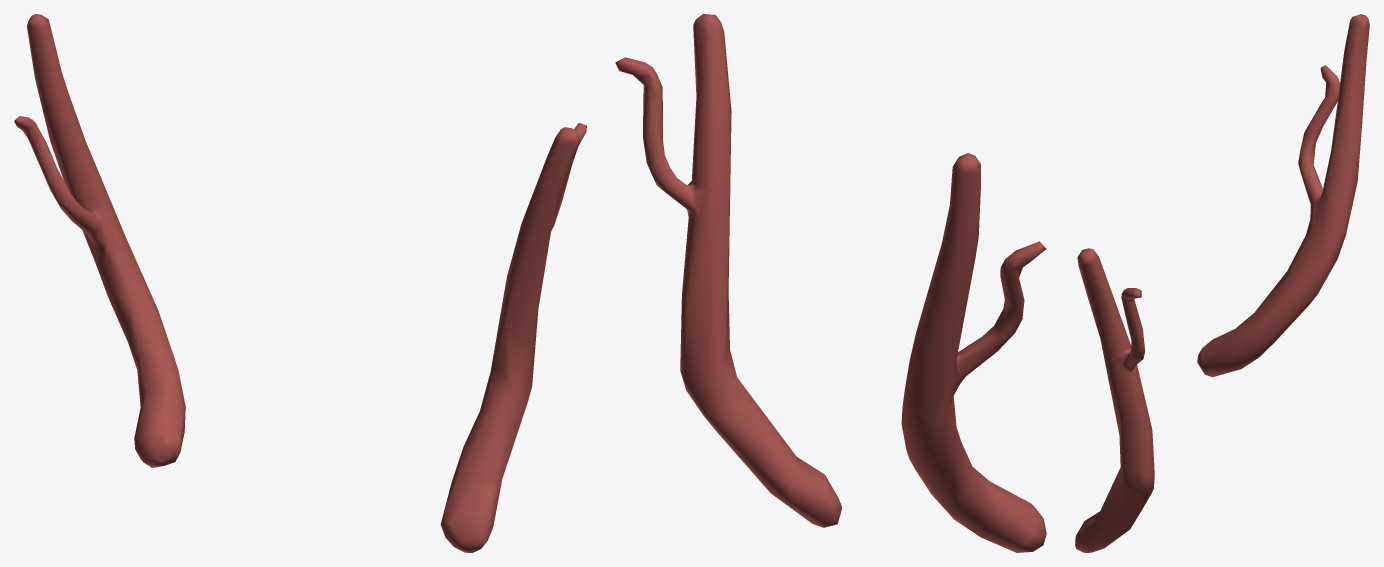
The model's file is FMA71669.glb.
3 views of the same model, side by side, from view 1: azimuth 30°, elevation 25°; view 2: azimuth 150°, elevation 25°; view 3: azimuth 270°, elevation 25° (orthographic). The views are drawn at different scales.
Parts seen in each view (by area): view 1: FMA71669; view 2: FMA71669; view 3: FMA71669.
Boxes of the visible parts, x1,y1,x2,y2 form: FMA71669: (14, 14, 586, 552); FMA71669: (615, 14, 1046, 552); FMA71669: (1075, 14, 1369, 552).
Size of the model in its own units: 0.0207 by 0.0208 by 0.0132.
